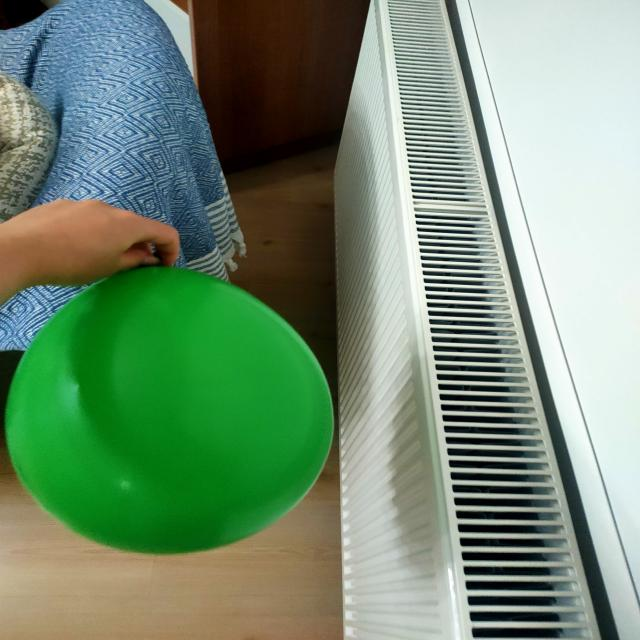green: (10, 268, 334, 555)
